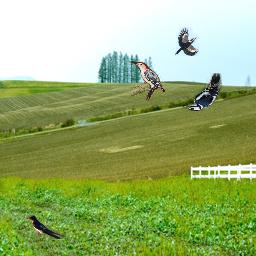Swallow: (26, 214, 66, 239)
Woodpecker: (182, 73, 222, 111), (131, 61, 166, 101), (175, 27, 199, 56)
